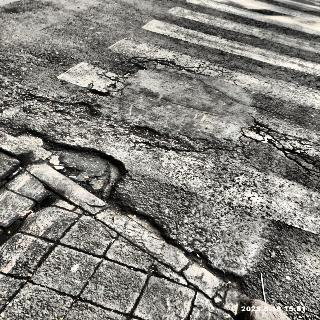crack: (103, 188, 247, 292)
pothole: (15, 131, 126, 196)
